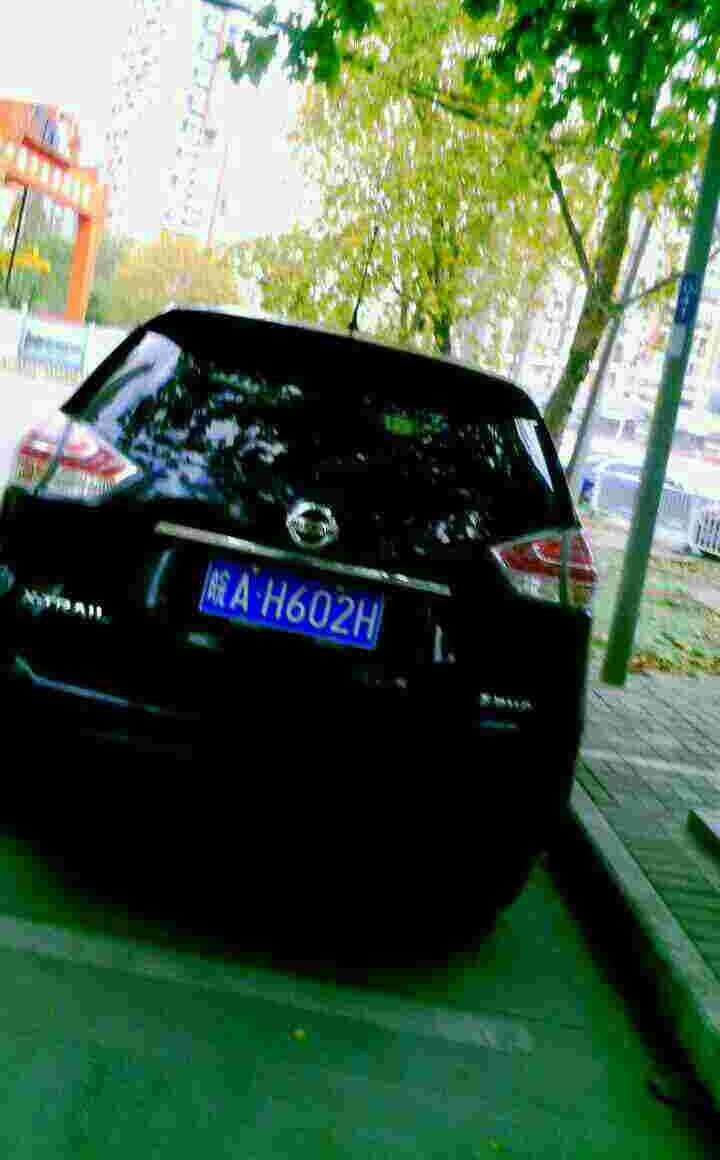license_plate: (198, 564, 383, 634)
